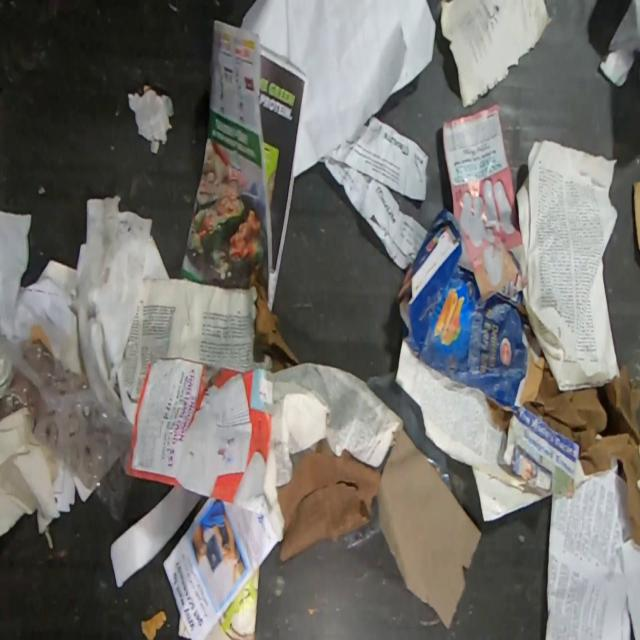cardboard: (400, 210, 530, 412), (633, 180, 640, 253)
soft_plastic: (0, 324, 137, 522), (366, 371, 452, 491), (344, 496, 381, 550)
